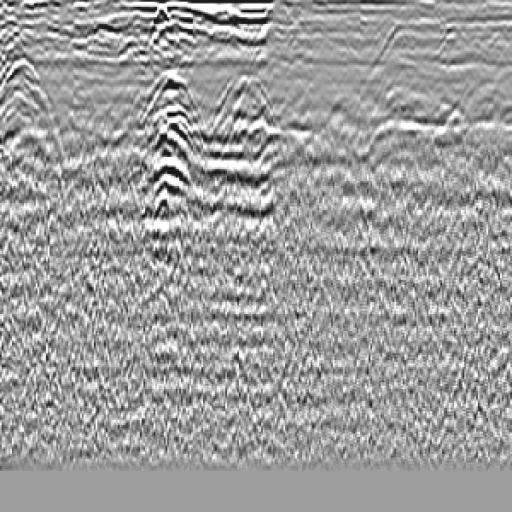metalic: (131, 49, 211, 277)
nonmetalic: (200, 41, 300, 200), (1, 48, 66, 179)
